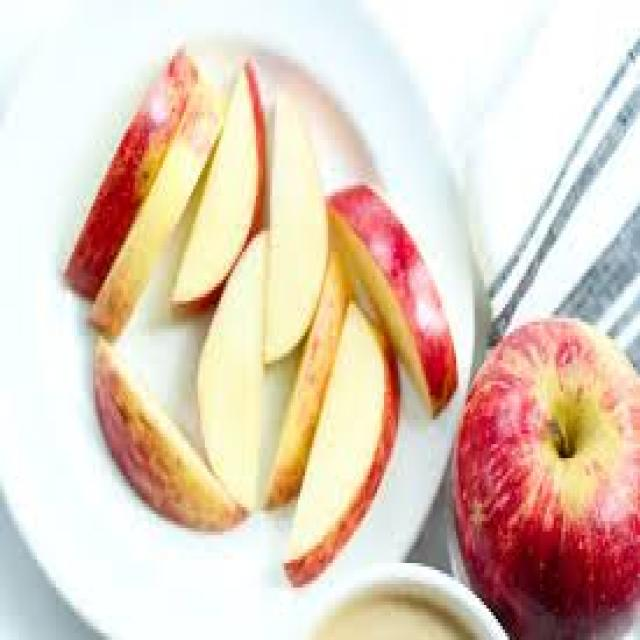Apple: (456, 317, 640, 633), (91, 333, 242, 541), (330, 180, 464, 403), (291, 302, 391, 591), (266, 86, 332, 368), (191, 46, 264, 300), (204, 246, 268, 517)
